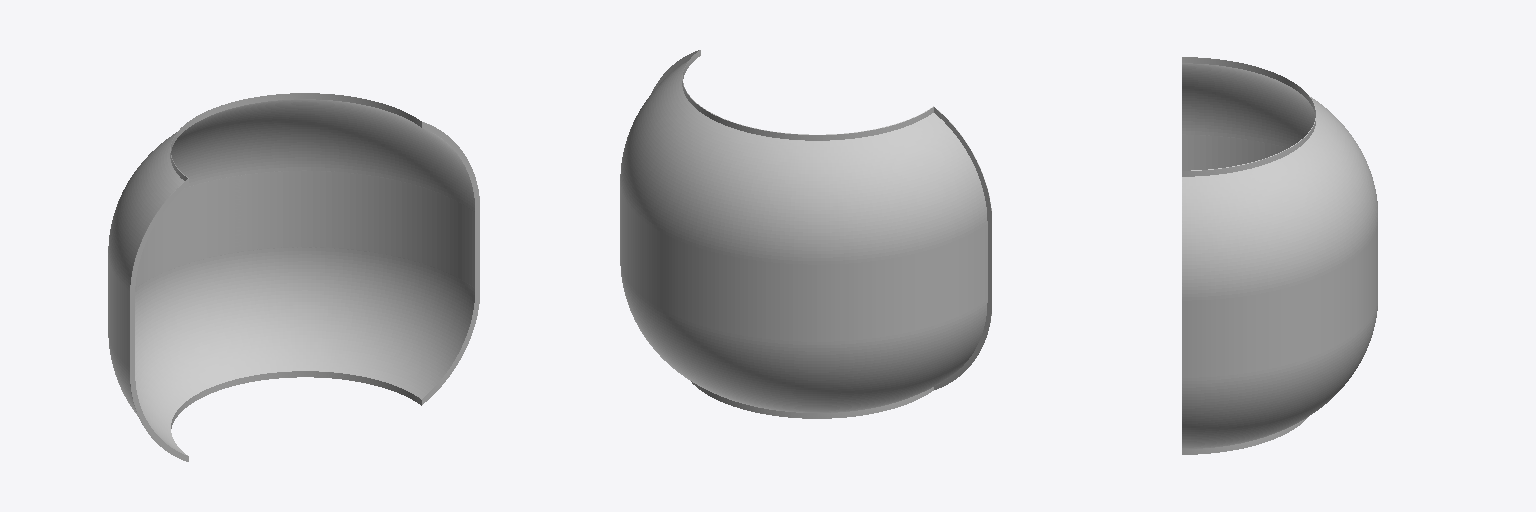
The model's file is Dome5mv2.obj.
The picture shows the model from 3 angles: view 1: azimuth 30°, elevation 25°; view 2: azimuth 150°, elevation 25°; view 3: azimuth 270°, elevation 25°; orthographic projection.
Visible parts, largest first — view 1: iiRES_Screen_-_No_Internal_Flanges_-_v2; view 2: iiRES_Screen_-_No_Internal_Flanges_-_v2; view 3: iiRES_Screen_-_No_Internal_Flanges_-_v2.
Part boxes in pixels (x1,y1,x2,y2): iiRES_Screen_-_No_Internal_Flanges_-_v2: (108,93,479,461); iiRES_Screen_-_No_Internal_Flanges_-_v2: (620,50,991,418); iiRES_Screen_-_No_Internal_Flanges_-_v2: (1182,57,1377,454).
Size of the model in its own units: 4.75 by 3.68 by 2.31.